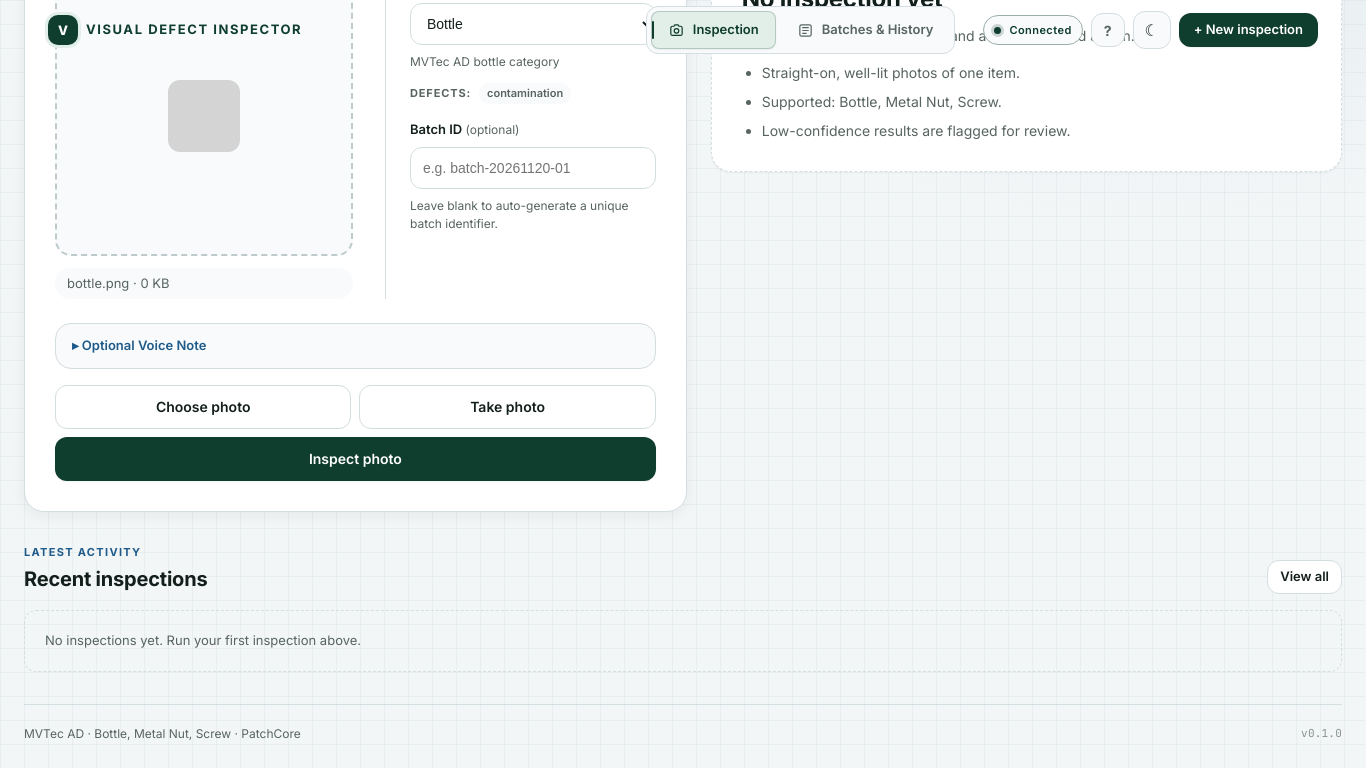
Test: App › marks a low-confidence result for manual review
Earlier steps of the test are not shown.
(page scrolled)
Step 1. Click the button "Inspect photo" → (355, 459), box [55,437,656,481]
(page scrolled)
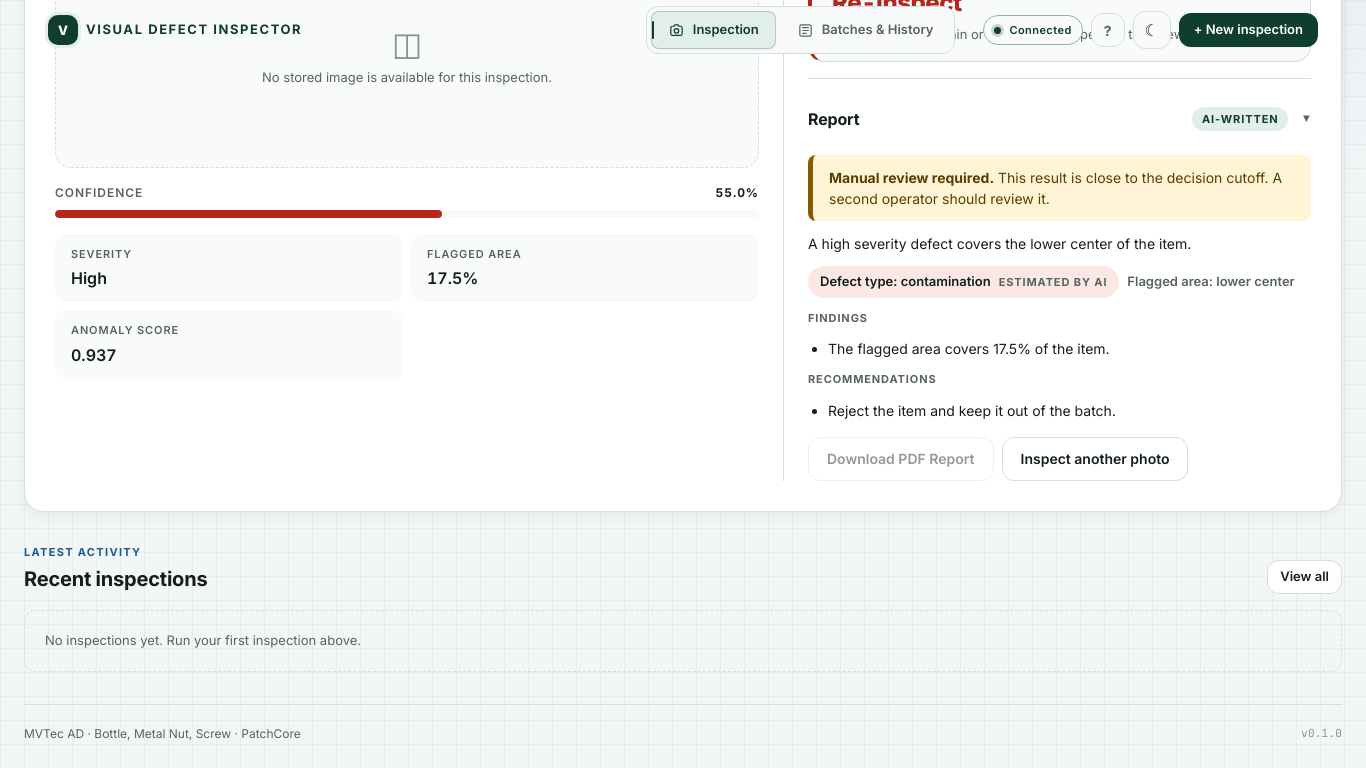
Check: the message shows "Manual review required.", box [808,155,1311,221]
